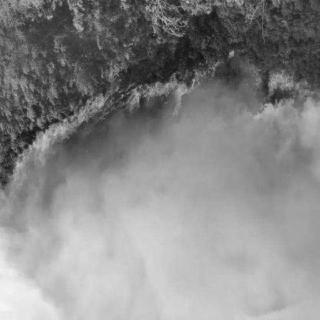Fire: (103, 41, 245, 147), (10, 92, 104, 226), (248, 50, 304, 134)
Smoke: (54, 150, 318, 318)
